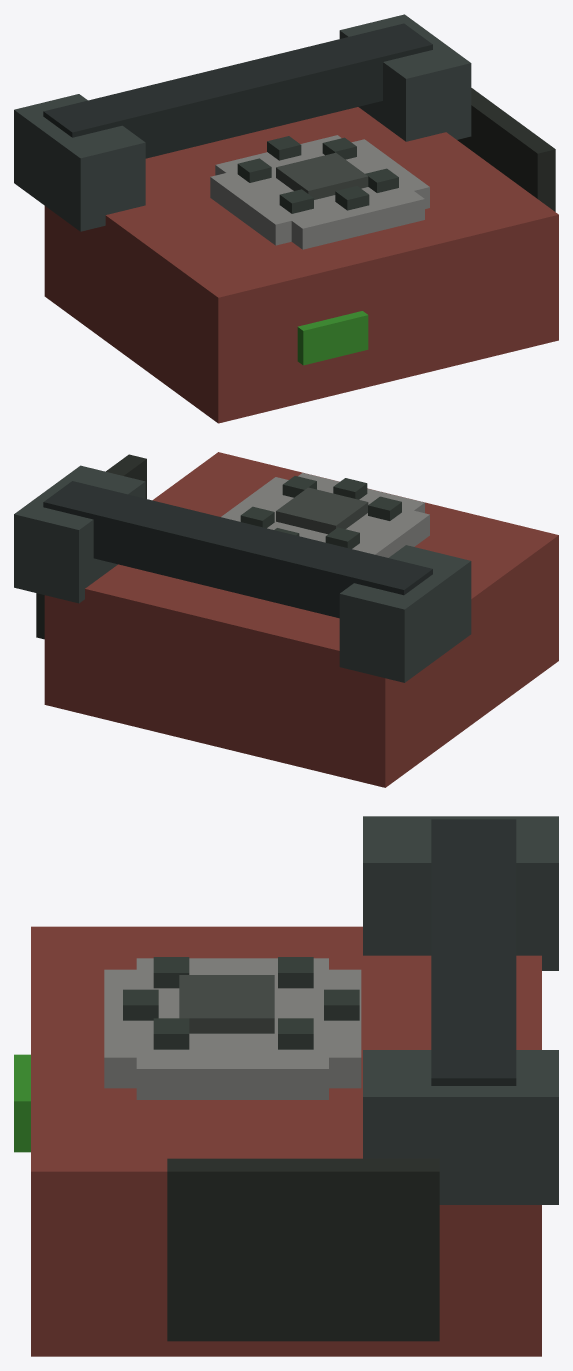
Rendered from CMU3DRotaryPhone.glb.
3 views of the same model, one above another, from view 1: azimuth 30°, elevation 25°; view 2: azimuth 150°, elevation 25°; view 3: azimuth 270°, elevation 25° (orthographic). The views are drawn at different scales.
Parts seen in each view (by area): view 1: phone body, compact receiver bridge, compact left earpiece, compact right earpiece, dial central band, dial rounded middle, receiver cord, dial hole (×6), green status lamp, dial center; view 2: phone body, compact receiver bridge, compact left earpiece, compact right earpiece, dial central band, dial center, dial hole (×5), dial rounded middle, receiver cord; view 3: phone body, receiver cord, compact right earpiece, compact receiver bridge, compact left earpiece, dial central band, dial rounded middle, dial hole (×6), dial center, green status lamp.
Part boxes in pixels (box(x1,y1,x2,y2)): phone body: box(44, 107, 558, 423); compact receiver bridge: box(43, 23, 432, 158); compact left earpiece: box(14, 94, 145, 231); compact right earpiece: box(339, 14, 471, 141); dial central band: box(210, 139, 429, 245); dial rounded middle: box(215, 135, 424, 249); receiver cord: box(457, 88, 555, 211); dial hole (×6): box(237, 136, 398, 213); green status lamp: box(297, 311, 368, 365); dial center: box(276, 152, 368, 199); phone body: box(44, 452, 558, 787); compact receiver bridge: box(43, 481, 432, 618); compact left earpiece: box(339, 545, 471, 682); compact right earpiece: box(14, 465, 145, 603); dial central band: box(221, 477, 429, 557); dial center: box(276, 487, 368, 534); dial hole (×5): box(240, 476, 401, 548); dial rounded middle: box(237, 473, 424, 550); receiver cord: box(36, 454, 146, 639); phone body: box(31, 926, 541, 1356); receiver cord: box(167, 1158, 439, 1341); compact right earpiece: box(363, 1050, 558, 1204); compact receiver bridge: box(431, 819, 516, 1085); compact left earpiece: box(363, 816, 558, 970); dial central band: box(136, 958, 328, 1099); dial rounded middle: box(104, 969, 361, 1088); dial hole (×6): box(123, 957, 359, 1049); dial center: box(179, 975, 274, 1033); green status lamp: box(14, 1054, 30, 1152).
Size of the model in its own units: 0.408 by 0.185 by 0.32.
